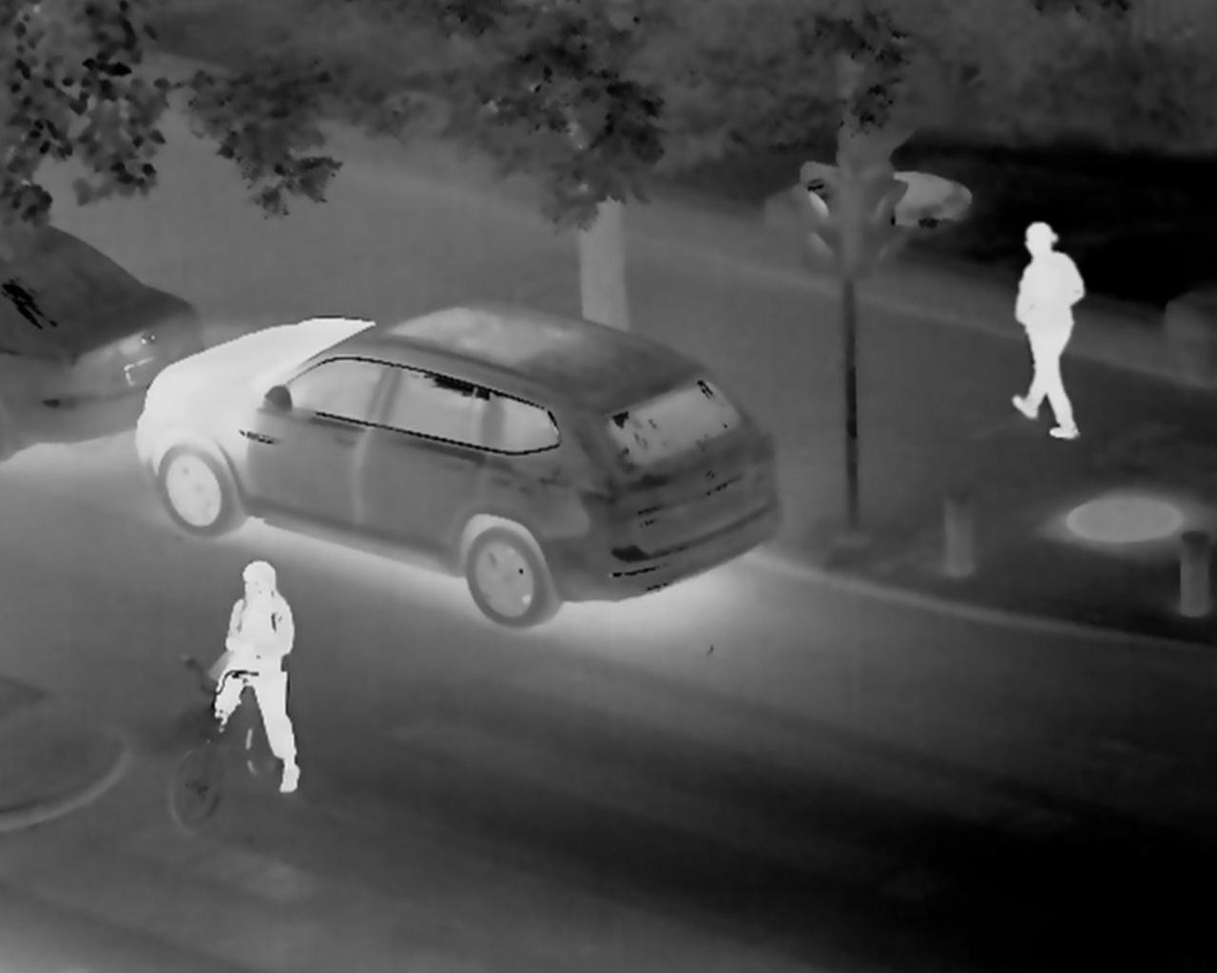person: (207, 555, 299, 799), (1002, 220, 1091, 444)
